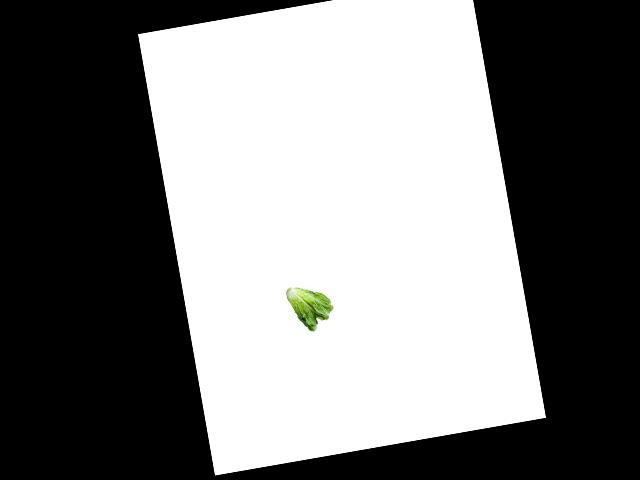lettuce: (284, 278, 342, 334)
